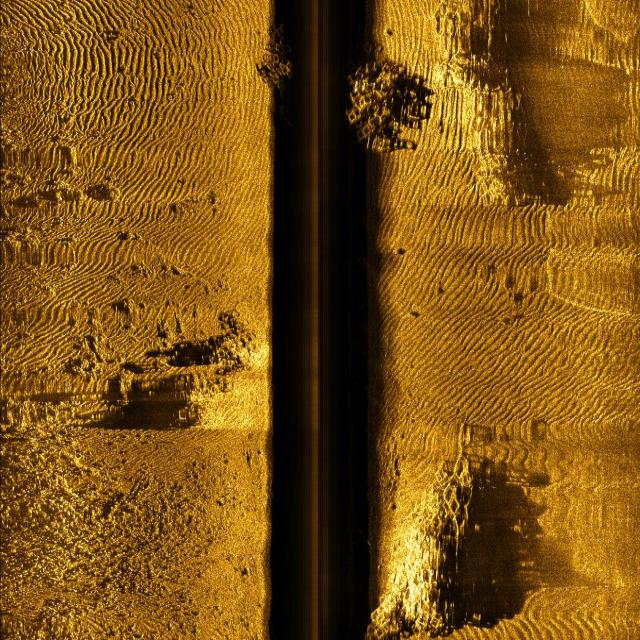artificial reef: (370, 419, 484, 640), (338, 36, 409, 158), (254, 15, 304, 120)
